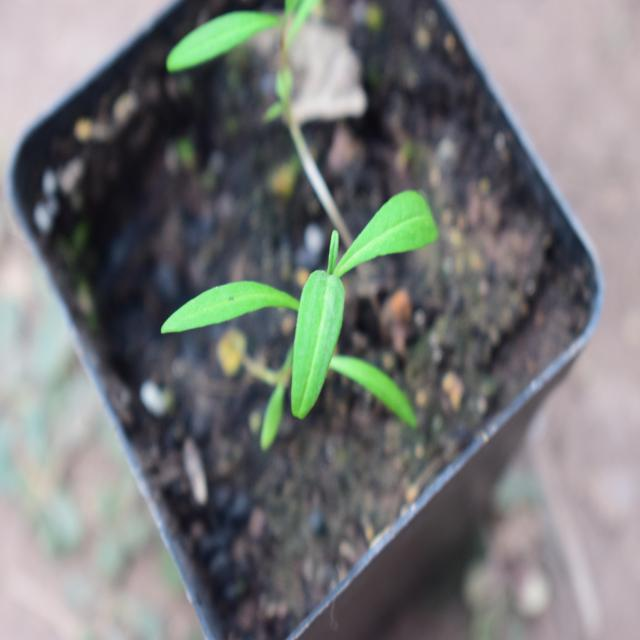white_smart_weed: (196, 173, 506, 441)
